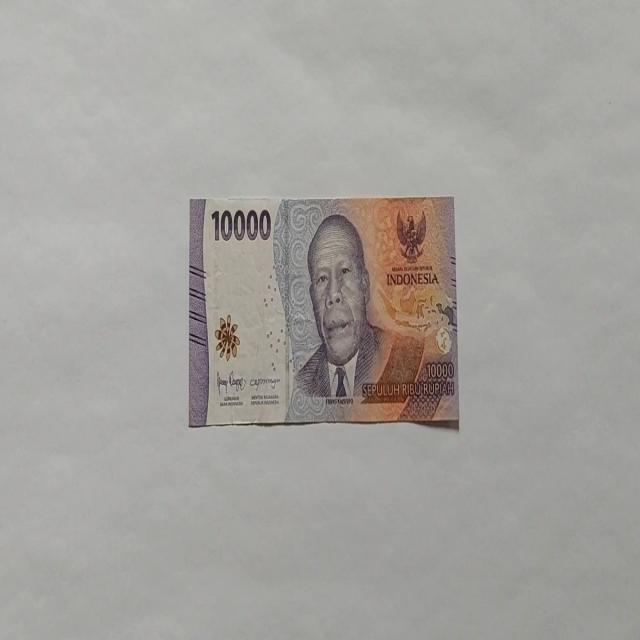sepuluh ribu rupiah: (188, 194, 459, 428), (284, 211, 426, 422)
